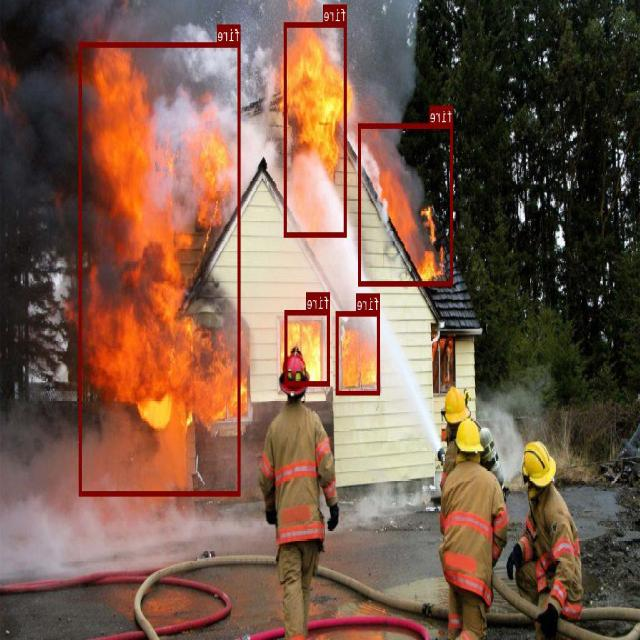fire: (80, 41, 241, 495), (359, 123, 453, 284), (285, 21, 347, 236), (337, 310, 380, 394), (285, 310, 331, 385)
